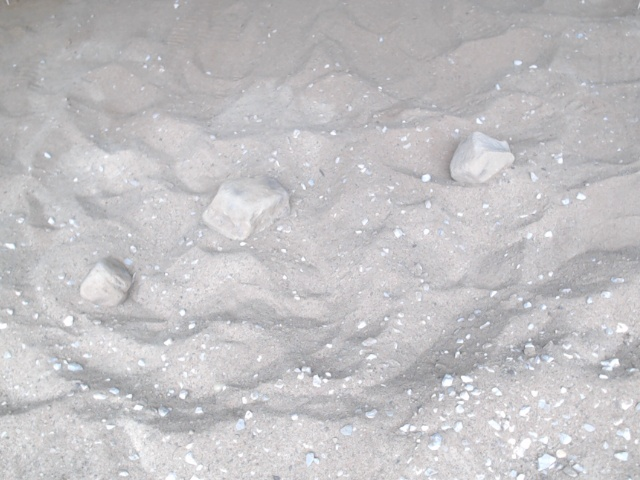rock: (196, 170, 295, 245), (445, 127, 518, 188), (76, 253, 137, 311)
